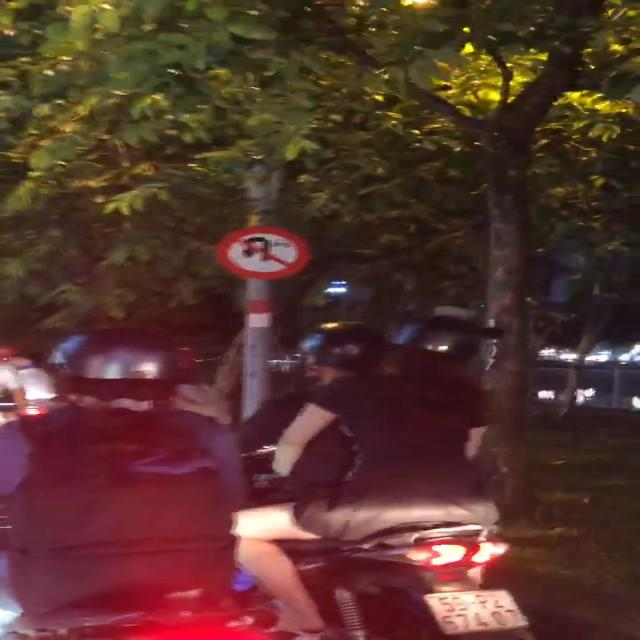Bien bao cam quay dau xe: (215, 225, 306, 280)
